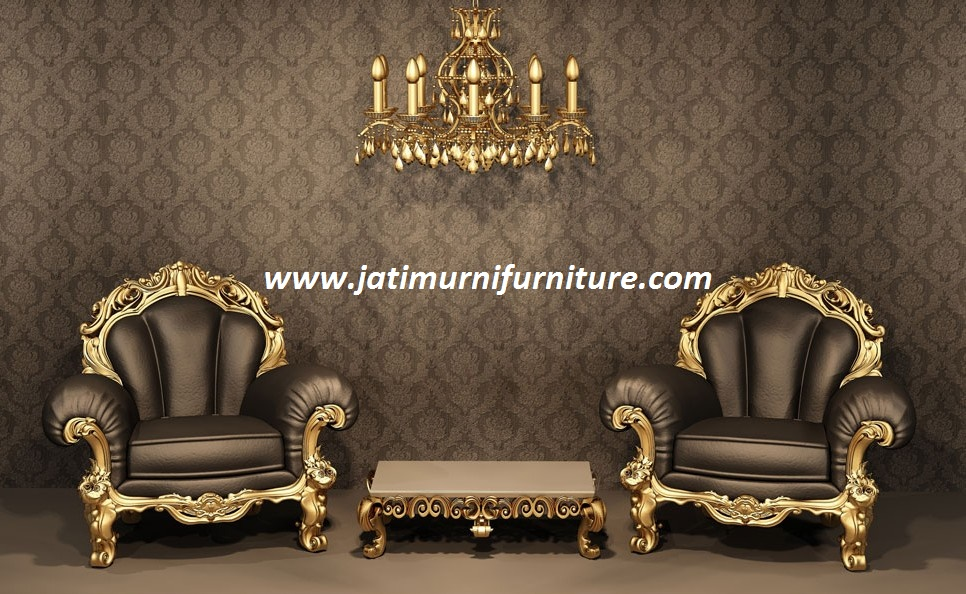Carving Chair: (593, 263, 925, 570), (68, 256, 355, 552)
Carving Table: (361, 448, 619, 574)
